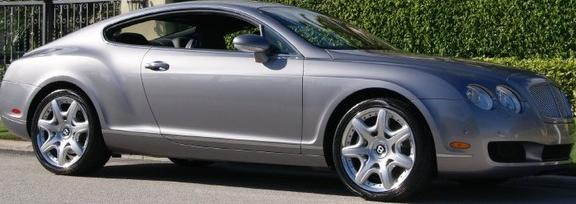front_view: (449, 71, 576, 170)
headlight: (454, 80, 524, 118)
side_glass: (103, 7, 308, 63)
